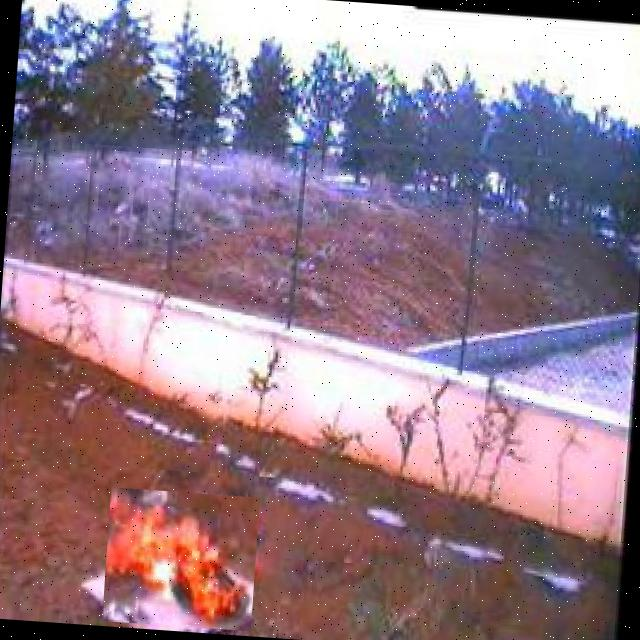fire: (102, 487, 260, 631)
